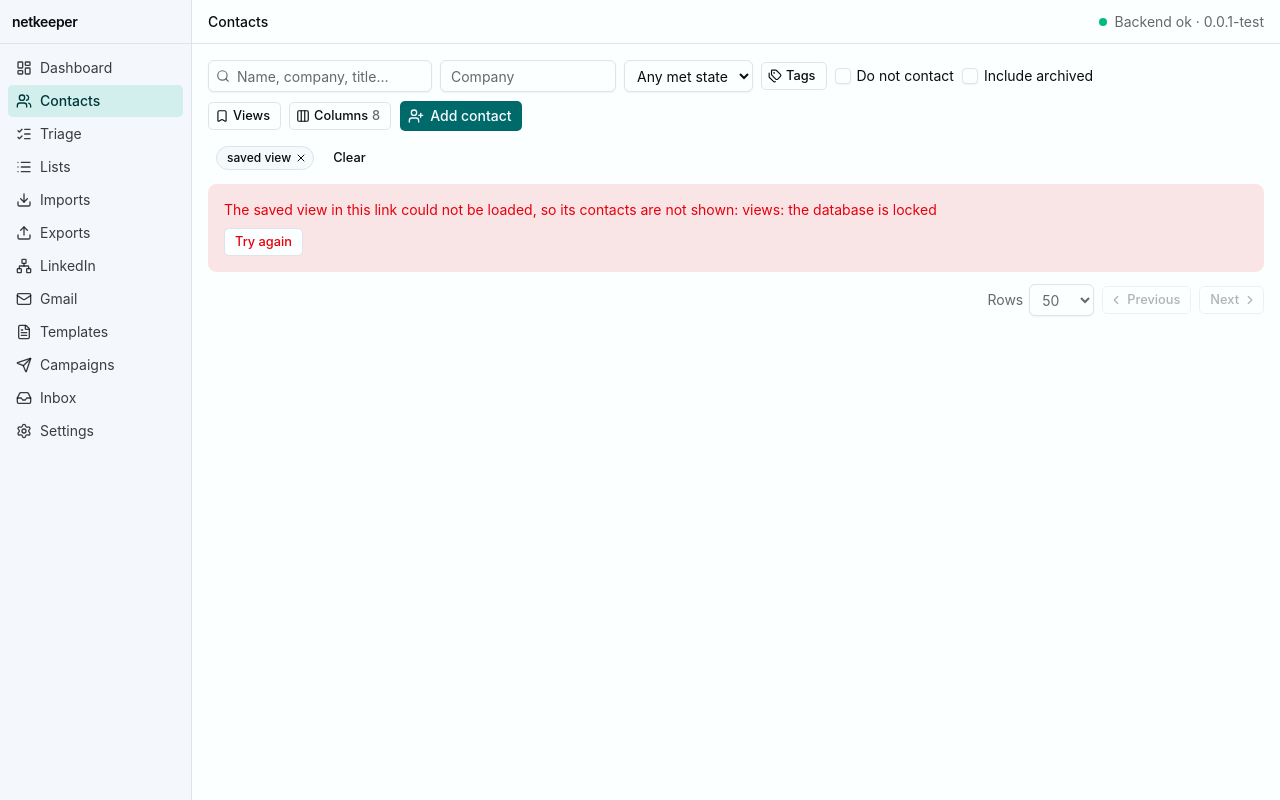
it: a ?view= link › says the view failed to load, and shows no contacts rather than a wider filter
The width and height of the screenshot is (1280, 800).
expect the navigation bar named "Primary" is shown: met, box [0,44,191,455]
expect the 2nd message shows "The saved view in this link could not be loaded": met, box [224,201,738,218]
What coordinates should you click on to do the following:
click the button "Try again"
I would click on:
 (263, 242)
Its box is [224,228,303,256].
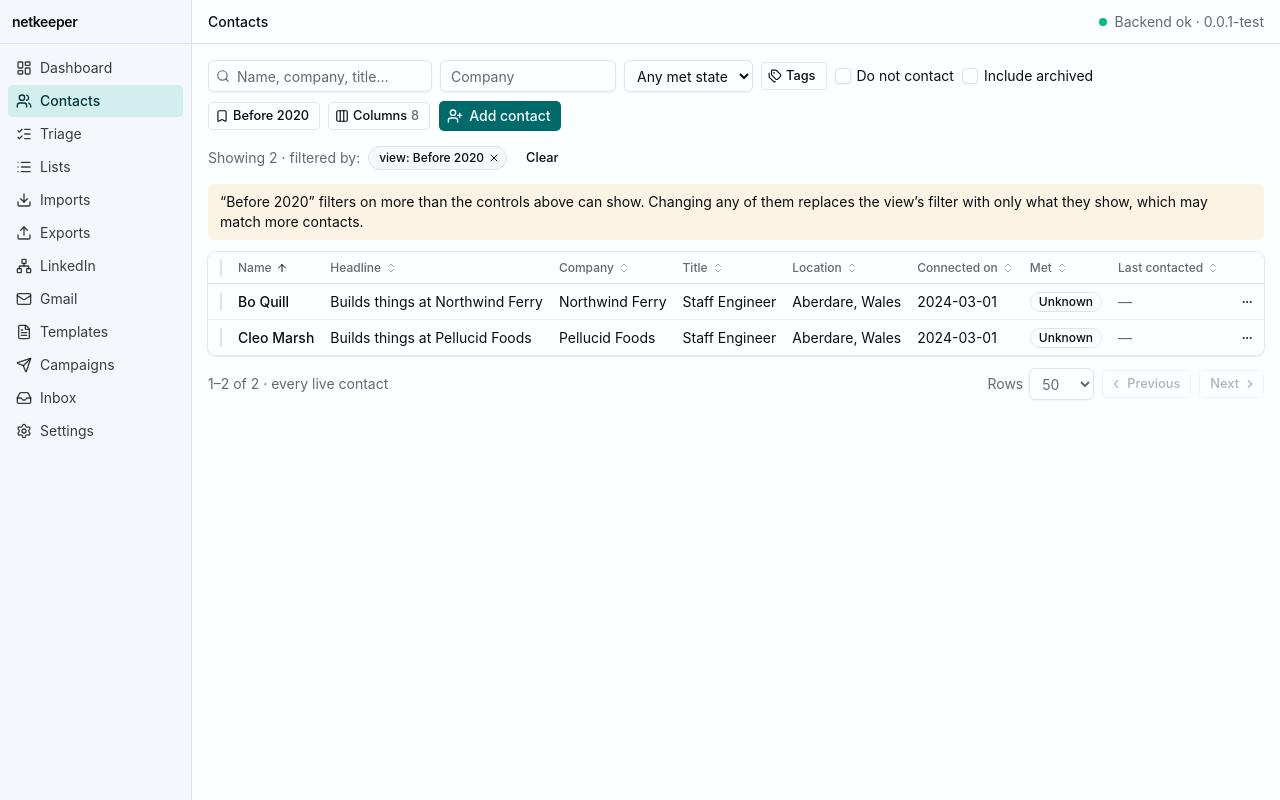
expect the table is shown: met, box [208,252,1264,356]
